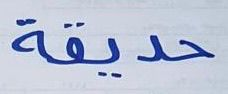dal: (168, 37, 216, 63), (135, 31, 166, 64)
qaf: (56, 20, 88, 65)
teh_marbota: (10, 11, 54, 65)
yeh: (88, 35, 125, 80)
